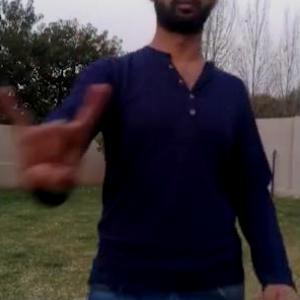takeoff-hand: (0, 71, 119, 207)
